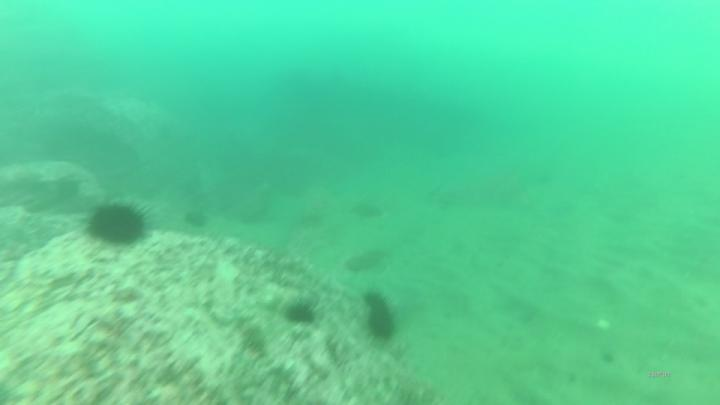echinus: (86, 199, 147, 250), (364, 299, 401, 340), (283, 292, 317, 328)
